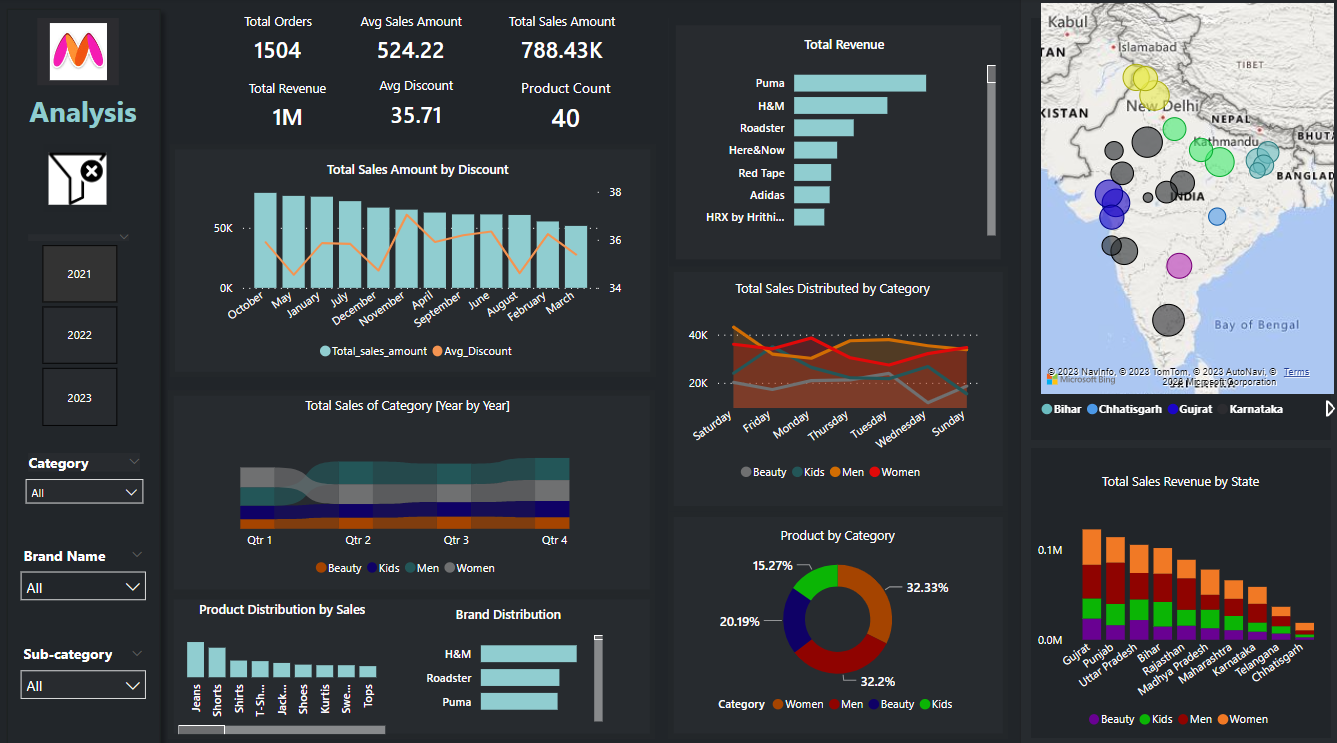

The page's visual inventory and layout, read from the dashboard file:
{"tool":"powerbi","page":{"name":"Main","canvas":[1280,720],"ordinal":0},"visuals":[{"type":"shape","box":[975.5,0,304.9,719.4],"z":0},{"type":"shape","box":[975.1,0,304.9,719.4],"z":1000},{"type":"shape","box":[975.1,0.6,304.9,719.4],"z":2000},{"type":"shape","box":[975.1,0.6,304.9,719.4],"z":3000},{"type":"shape","box":[975.5,0,304.9,719.4],"z":4000},{"type":"shape","box":[1,1,164.6,719.4],"z":5000},{"type":"shape","box":[975.1,0.6,304.9,719.4],"z":6000},{"type":"shape","box":[975.1,0.6,304.9,719.4],"z":7000},{"type":"shape","box":[975.1,0.6,304.9,719.4],"z":8000},{"type":"shape","box":[975.1,0.6,304.9,719.4],"z":9000},{"type":"shape","box":[975.1,0.6,304.9,719.4],"z":10000},{"type":"shape","box":[975.1,0.6,304.9,719.4],"z":11000},{"type":"shape","box":[975.1,0.6,304.9,719.4],"z":12000},{"type":"shape","box":[975.1,0.6,304.9,719.4],"z":13000},{"type":"shape","box":[975.1,0.6,304.9,719.4],"z":14000},{"type":"shape","box":[975.1,0.6,304.9,719.4],"z":15000},{"type":"shape","box":[975.1,0.6,304.9,719.4],"z":16000},{"type":"shape","box":[975.1,0.6,304.9,719.4],"z":17000},{"type":"shape","box":[975.1,0.6,304.9,719.4],"z":18000},{"type":"shape","box":[975.1,0.6,304.9,719.4],"z":19000},{"type":"shape","box":[975.1,0.6,304.9,719.4],"z":20000},{"type":"shape","box":[975.1,0.6,304.9,719.4],"z":21000},{"type":"shape","box":[975.1,0.6,304.9,719.4],"z":22000},{"type":"shape","box":[975.1,0.6,304.9,719.4],"z":23000},{"type":"shape","box":[975.1,0.6,304.9,719.4],"z":24000},{"type":"shape","box":[975.1,0.6,304.9,719.4],"z":25000},{"type":"shape","box":[975.1,0.6,304.9,719.4],"z":26000},{"type":"shape","box":[975.1,0.6,304.9,719.4],"z":27000},{"type":"shape","box":[975.1,0.6,304.9,719.4],"z":28000},{"type":"shape","box":[975.1,0.6,304.9,719.4],"z":29000},{"type":"shape","box":[975.1,0.6,304.9,719.4],"z":30000},{"type":"shape","box":[975.1,0.6,304.9,719.4],"z":31000},{"type":"shape","box":[975.1,0.6,304.9,719.4],"z":32000},{"type":"shape","box":[975.1,0.6,304.9,719.4],"z":33000},{"type":"shape","box":[975.1,0.6,304.9,719.4],"z":34000},{"type":"shape","box":[975.1,0.6,304.9,719.4],"z":35000},{"type":"shape","box":[975.1,0.6,304.9,719.4],"z":36000},{"type":"shape","box":[975.1,0.6,304.9,719.4],"z":37000},{"type":"shape","box":[975.1,0.6,304.9,719.4],"z":38000},{"type":"shape","box":[975.1,0.6,304.9,719.4],"z":39000},{"type":"shape","box":[975.1,0.6,304.9,719.4],"z":40000},{"type":"shape","box":[975.1,0.6,304.9,719.4],"z":41000},{"type":"shape","box":[975.1,0.6,304.9,719.4],"z":42000},{"type":"shape","box":[975.1,0.6,304.9,719.4],"z":43000},{"type":"shape","box":[975.1,0.6,304.9,719.4],"z":44000},{"type":"shape","box":[975.1,0.6,304.9,719.4],"z":45000},{"type":"shape","box":[975.1,0.6,304.9,719.4],"z":46000},{"type":"shape","box":[975.1,0.6,304.9,719.4],"z":47000},{"type":"shape","box":[975.1,0.6,304.9,719.4],"z":48000},{"type":"shape","box":[975.1,0.6,304.9,719.4],"z":49000},{"type":"shape","box":[975.1,0.6,304.9,719.4],"z":50000},{"type":"shape","box":[975.1,0.6,304.9,719.4],"z":51000},{"type":"shape","box":[975.1,0.6,304.9,719.4],"z":52000},{"type":"shape","box":[975.1,0.6,304.9,719.4],"z":53000},{"type":"shape","box":[975.1,0.6,304.9,719.4],"z":54000},{"type":"shape","box":[975.1,0.6,304.9,719.4],"z":55000},{"type":"shape","box":[975.1,0.6,304.9,719.4],"z":56000},{"type":"shape","box":[975.1,0.6,304.9,719.4],"z":57000},{"type":"shape","box":[985.1,428.8,285.9,276.3],"z":58000},{"type":"shape","box":[639.7,18.9,323,237],"z":59000},{"type":"shape","box":[985.1,19.1,285.9,401.4],"z":60000},{"type":"shape","box":[164.6,567.3,463.5,137.4],"z":61000},{"type":"shape","box":[639.7,488.7,323,216],"z":62000},{"type":"shape","box":[165.7,139.5,462.5,221.3],"z":63000},{"type":"shape","box":[639.7,255.9,323,232.8],"z":64000},{"type":"shape","box":[164.6,373.3,463.5,194],"z":65000},{"type":"textbox","box":[13.6,84.9,139.5,54.5],"z":66000},{"type":"slicer","title":"Category","fields":{"Values":["Date_table.Year"]},"box":[17.8,220.2,121.6,194],"z":67000},{"type":"card","title":"Total Orders","fields":{"Values":["Measures_Table.Total_orders"]},"box":[211.8,14.7,113.3,56.6],"z":68000},{"type":"card","title":"Avg Discount","fields":{"Values":["Measures_Table.Avg_Discount"]},"box":[334.3,75.5,131.1,59.8],"z":69000},{"type":"card","title":"Avg Sales Amount","fields":{"Values":["Measures_Table.Avg_sales_amount"]},"box":[325.1,14.7,140.5,56.6],"z":70000},{"type":"card","title":"Total Sales Amount","fields":{"Values":["Measures_Table.Total_sales_amount"]},"box":[471.1,14.7,135.3,56.6],"z":71000},{"type":"card","title":"Total Revenue","fields":{"Values":["Measures_Table.Sum_original_price"]},"box":[220.2,77.6,114.3,56.6],"z":72000},{"type":"card","title":"Product Count","fields":{"Values":["Count(dim_products.Product Name)"]},"box":[487.6,76.6,109.1,59.8],"z":73000},{"type":"barChart","title":"Total Revenue","fields":{"Y":["Sum(fact_orders.Sales Amount)"],"Category":["dim_products.Brand Name"]},"box":[658.6,35.7,298.9,195.1],"z":74000},{"type":"columnChart","title":"Total Sales Revenue by State","fields":{"Category":["dim_customers.State"],"Y":["Sum(fact_orders.Sales Amount)"],"Series":["dim_products.Category"]},"box":[986.3,452.6,282.3,252.5],"z":75000},{"type":"donutChart","title":"Product by Category","fields":{"Y":["CountNonNull(dim_products.Product ID)"],"Category":["dim_products.Category"]},"box":[658.6,503.4,286.3,186.7],"z":76000},{"type":"barChart","title":"Brand Distribution","fields":{"Category":["dim_products.Brand Name"],"Y":["CountNonNull(dim_products.Brand Name)"]},"box":[392.2,578.9,189.8,115.4],"z":77000},{"type":"lineStackedColumnComboChart","title":"Total Sales Amount by Discount","fields":{"Category":["Date_table.Month_NAME"],"Y":["Measures_Table.Total_sales_amount"],"Y2":["Measures_Table.Avg_Discount"]},"box":[202.4,155.2,398.5,199.2],"z":78000},{"type":"ribbonChart","title":"Total Sales of Category [Year by Year]","fields":{"Category":["Date_table.Date.Variation.Date Hierarchy.Year","Date_table.Date.Variation.Date Hierarchy.Quarter","Date_table.Date.Variation.Date Hierarchy.Month","Date_table.Date.Variation.Date Hierarchy.Day"],"Y":["Measures_Table.Total_sales_amount"],"Series":["dim_products.Category"]},"box":[190.9,379.6,402.7,180.4],"z":79000},{"type":"columnChart","title":"Product Distribution by Sales","fields":{"Category":["dim_products.Product Name"],"Y":["CountNonNull(dim_products.Product Name)"]},"box":[168.8,573.6,206.6,132.1],"z":80000},{"type":"areaChart","title":"Total Sales Distributed by Category","fields":{"Category":["Date_table.Day of Week"],"Y":["Measures_Table.Total_sales_amount"],"Series":["dim_products.Category"]},"box":[649.1,267.4,295.7,201.3],"z":81000},{"type":"map","fields":{"Category":["dim_customers.City"],"Series":["dim_customers.State"],"Size":["Measures_Table.Total_orders"]},"box":[989.9,0,290.5,409],"z":82000},{"type":"slicer","title":"Brand Name","fields":{"Values":["dim_products.Brand Name"]},"box":[13.6,517,139.5,79.7],"z":83000},{"type":"slicer","title":"Category","fields":{"Values":["dim_products.Category"]},"box":[17.8,428.9,132.1,73.4],"z":84000},{"type":"slicer","title":"Sub-Category","fields":{"Values":["dim_products.Sub-category"]},"box":[13.6,610.3,139.5,79.7],"z":85000},{"type":"image","box":[45.1,139.5,65,65],"z":86000},{"type":"image","box":[38.8,18.9,77.6,64],"z":87000}]}

Visuals, with their boxes in screenshot pixels (x1, y1, x2, y2), scaled from the page's 1280x720 canvas onto the 1337x743 screenshot:
shape: l=1019, t=0, r=1336, b=742
shape: l=1019, t=0, r=1336, b=742
shape: l=1019, t=1, r=1336, b=742
shape: l=1019, t=1, r=1336, b=742
shape: l=1019, t=0, r=1336, b=742
shape: l=1, t=1, r=173, b=742
shape: l=1019, t=1, r=1336, b=742
shape: l=1019, t=1, r=1336, b=742
shape: l=1019, t=1, r=1336, b=742
shape: l=1019, t=1, r=1336, b=742
shape: l=1019, t=1, r=1336, b=742
shape: l=1019, t=1, r=1336, b=742
shape: l=1019, t=1, r=1336, b=742
shape: l=1019, t=1, r=1336, b=742
shape: l=1019, t=1, r=1336, b=742
shape: l=1019, t=1, r=1336, b=742
shape: l=1019, t=1, r=1336, b=742
shape: l=1019, t=1, r=1336, b=742
shape: l=1019, t=1, r=1336, b=742
shape: l=1019, t=1, r=1336, b=742
shape: l=1019, t=1, r=1336, b=742
shape: l=1019, t=1, r=1336, b=742
shape: l=1019, t=1, r=1336, b=742
shape: l=1019, t=1, r=1336, b=742
shape: l=1019, t=1, r=1336, b=742
shape: l=1019, t=1, r=1336, b=742
shape: l=1019, t=1, r=1336, b=742
shape: l=1019, t=1, r=1336, b=742
shape: l=1019, t=1, r=1336, b=742
shape: l=1019, t=1, r=1336, b=742
shape: l=1019, t=1, r=1336, b=742
shape: l=1019, t=1, r=1336, b=742
shape: l=1019, t=1, r=1336, b=742
shape: l=1019, t=1, r=1336, b=742
shape: l=1019, t=1, r=1336, b=742
shape: l=1019, t=1, r=1336, b=742
shape: l=1019, t=1, r=1336, b=742
shape: l=1019, t=1, r=1336, b=742
shape: l=1019, t=1, r=1336, b=742
shape: l=1019, t=1, r=1336, b=742
shape: l=1019, t=1, r=1336, b=742
shape: l=1019, t=1, r=1336, b=742
shape: l=1019, t=1, r=1336, b=742
shape: l=1019, t=1, r=1336, b=742
shape: l=1019, t=1, r=1336, b=742
shape: l=1019, t=1, r=1336, b=742
shape: l=1019, t=1, r=1336, b=742
shape: l=1019, t=1, r=1336, b=742
shape: l=1019, t=1, r=1336, b=742
shape: l=1019, t=1, r=1336, b=742
shape: l=1019, t=1, r=1336, b=742
shape: l=1019, t=1, r=1336, b=742
shape: l=1019, t=1, r=1336, b=742
shape: l=1019, t=1, r=1336, b=742
shape: l=1019, t=1, r=1336, b=742
shape: l=1019, t=1, r=1336, b=742
shape: l=1019, t=1, r=1336, b=742
shape: l=1019, t=1, r=1336, b=742
shape: l=1029, t=442, r=1328, b=728
shape: l=668, t=20, r=1006, b=264
shape: l=1029, t=20, r=1328, b=434
shape: l=172, t=585, r=656, b=727
shape: l=668, t=504, r=1006, b=727
shape: l=173, t=144, r=656, b=372
shape: l=668, t=264, r=1006, b=504
shape: l=172, t=385, r=656, b=585
textbox: l=14, t=88, r=160, b=144
"Category" slicer: l=19, t=227, r=146, b=427
"Total Orders" card: l=221, t=15, r=340, b=74
"Avg Discount" card: l=349, t=78, r=486, b=140
"Avg Sales Amount" card: l=340, t=15, r=486, b=74
"Total Sales Amount" card: l=492, t=15, r=633, b=74
"Total Revenue" card: l=230, t=80, r=349, b=138
"Product Count" card: l=509, t=79, r=623, b=141
"Total Revenue" barChart: l=688, t=37, r=1000, b=238
"Total Sales Revenue by State" columnChart: l=1030, t=467, r=1325, b=728
"Product by Category" donutChart: l=688, t=519, r=987, b=712
"Brand Distribution" barChart: l=410, t=597, r=608, b=716
"Total Sales Amount by Discount" lineStackedColumnComboChart: l=211, t=160, r=628, b=366
"Total Sales of Category [Year by Year]" ribbonChart: l=199, t=392, r=620, b=578
"Product Distribution by Sales" columnChart: l=176, t=592, r=392, b=728
"Total Sales Distributed by Category" areaChart: l=678, t=276, r=987, b=484
map - dim_customers.City x dim_customers.State: l=1034, t=0, r=1336, b=422
"Brand Name" slicer: l=14, t=534, r=160, b=616
"Category" slicer: l=19, t=443, r=157, b=518
"Sub-Category" slicer: l=14, t=630, r=160, b=712
image: l=47, t=144, r=115, b=211
image: l=41, t=20, r=122, b=86
